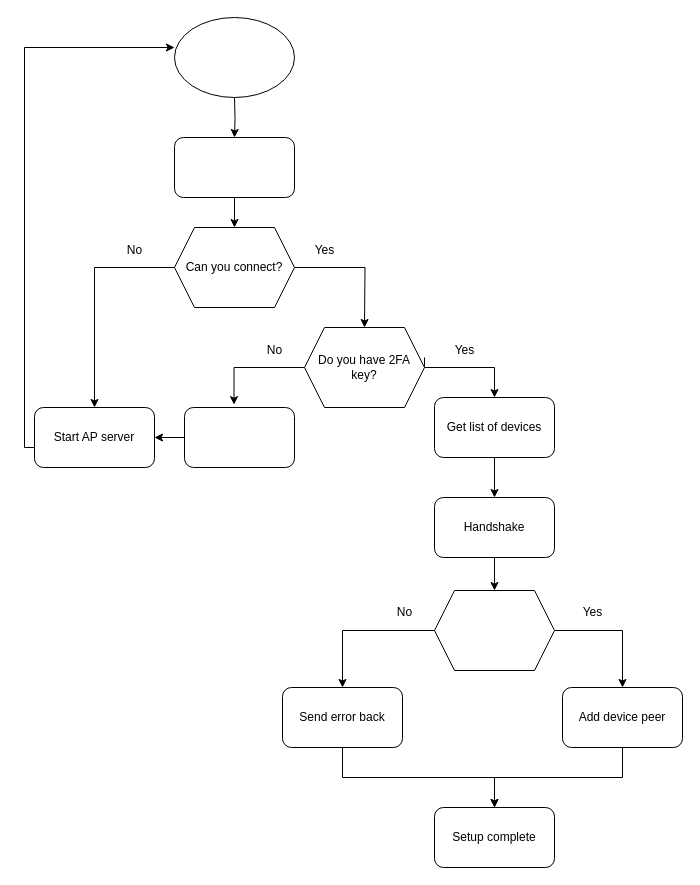
Image size: 700x885. Some labels were removed from this diagram. Here are the shapes that lost their labels. From the top down, the centre of each, then its label:
At point 234,57: "Start".
At point 234,167: "Check for Wi-Fi".
At point 239,437: "Generate QR code".
At point 494,630: "Did device respond?".
